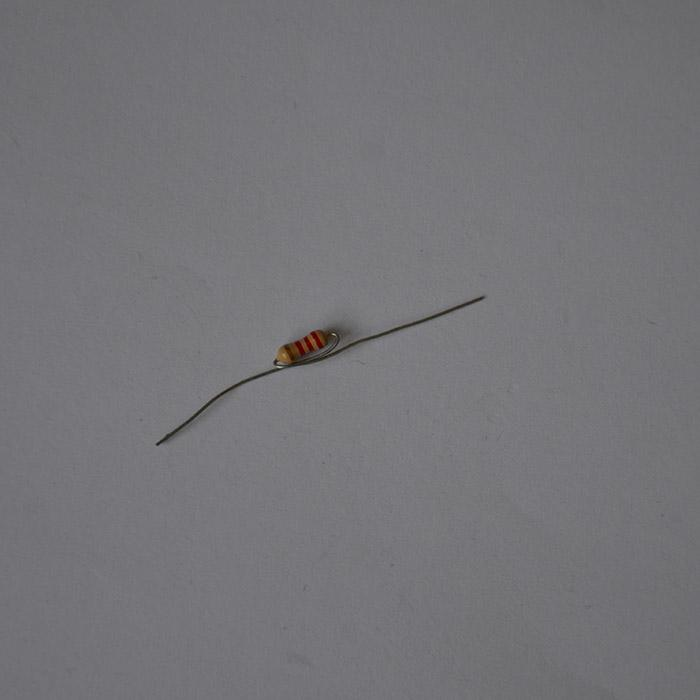resistor: (274, 328, 333, 365)
